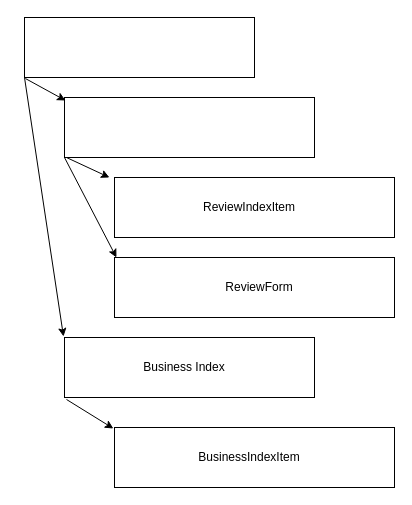
The diagram is 412 pixels wide and 505 high, and some of its shapes have lost their labels. Each missing label, with the centre of its shape:
"App" belongs at pixel 139 47.
"ReviewsIndex (Index Route)" belongs at pixel 189 127.
